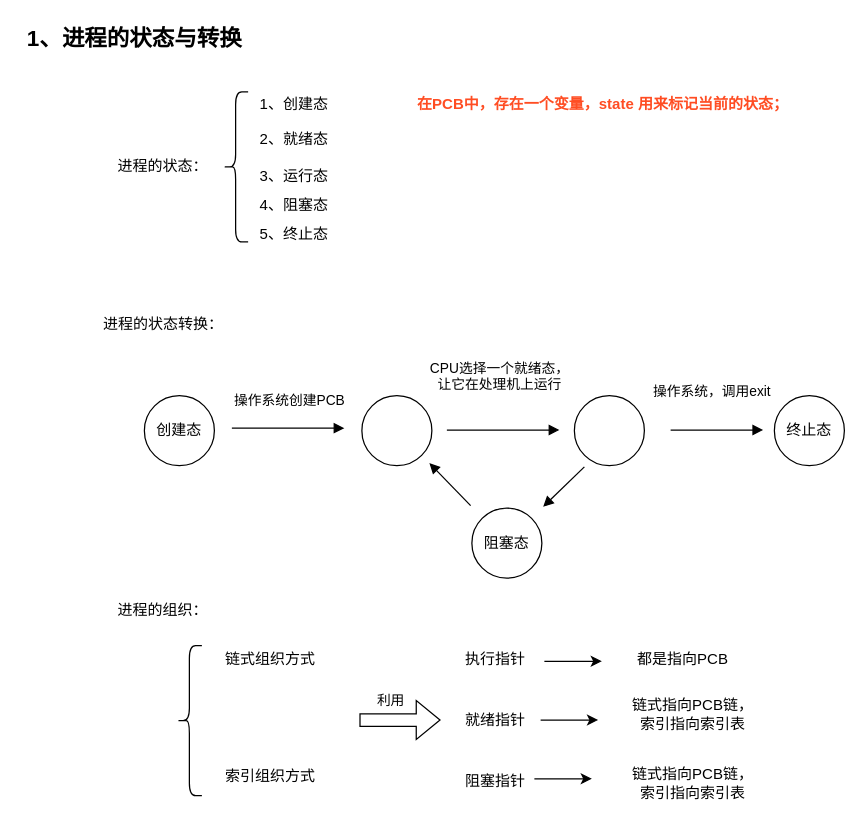
Image size: 866x821. Some labels were removed from this diagram. The shapes that lost their labels are listed below. From the top down, each one's centre as x and y in pixels, then its label:
point (396, 430): 就绪态
point (608, 430): 运行态
